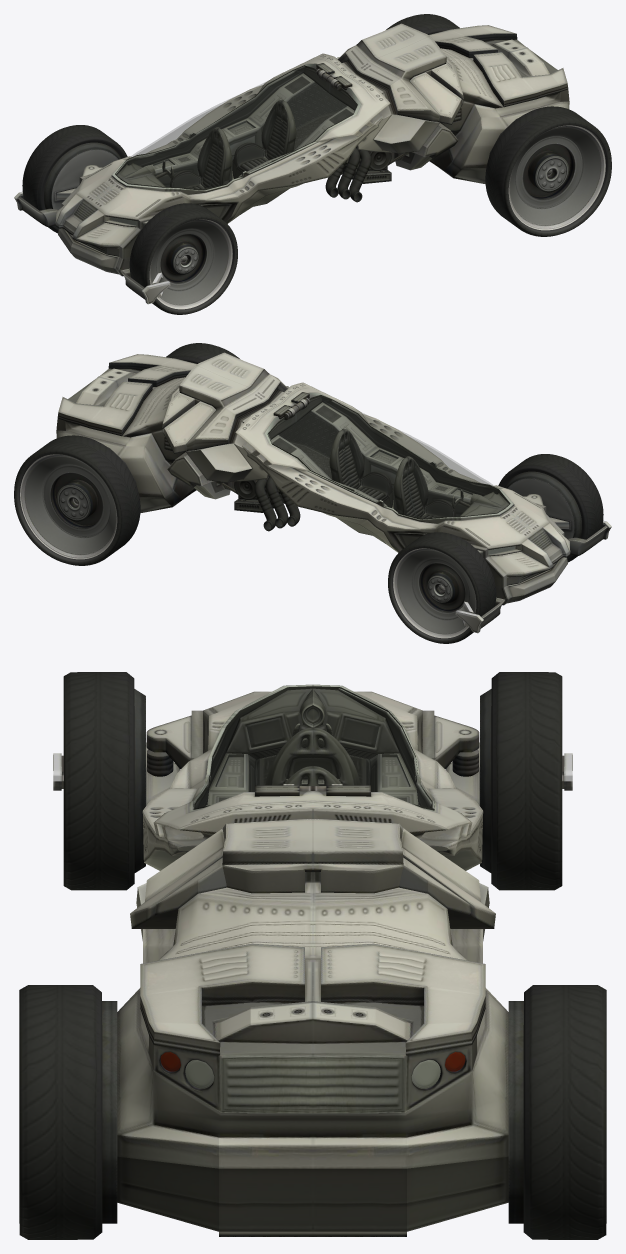
Rendered from FutureCar-processed.glb.
3 views of the same model, one above another, from view 1: azimuth 30°, elevation 25°; view 2: azimuth 150°, elevation 25°; view 3: azimuth 270°, elevation 25° (orthographic). The views are drawn at different scales.
Visible parts, largest first — view 1: node-0; view 2: node-0; view 3: node-0.
Boxes of the visible parts, x1,y1,x2,y2 form: node-0: (14, 14, 611, 314); node-0: (14, 343, 611, 643); node-0: (19, 672, 606, 1239).
Bounding box in the file's own units: 6.96 × 2.2 × 3.65.
Materials: 2 (2 with a texture image).
